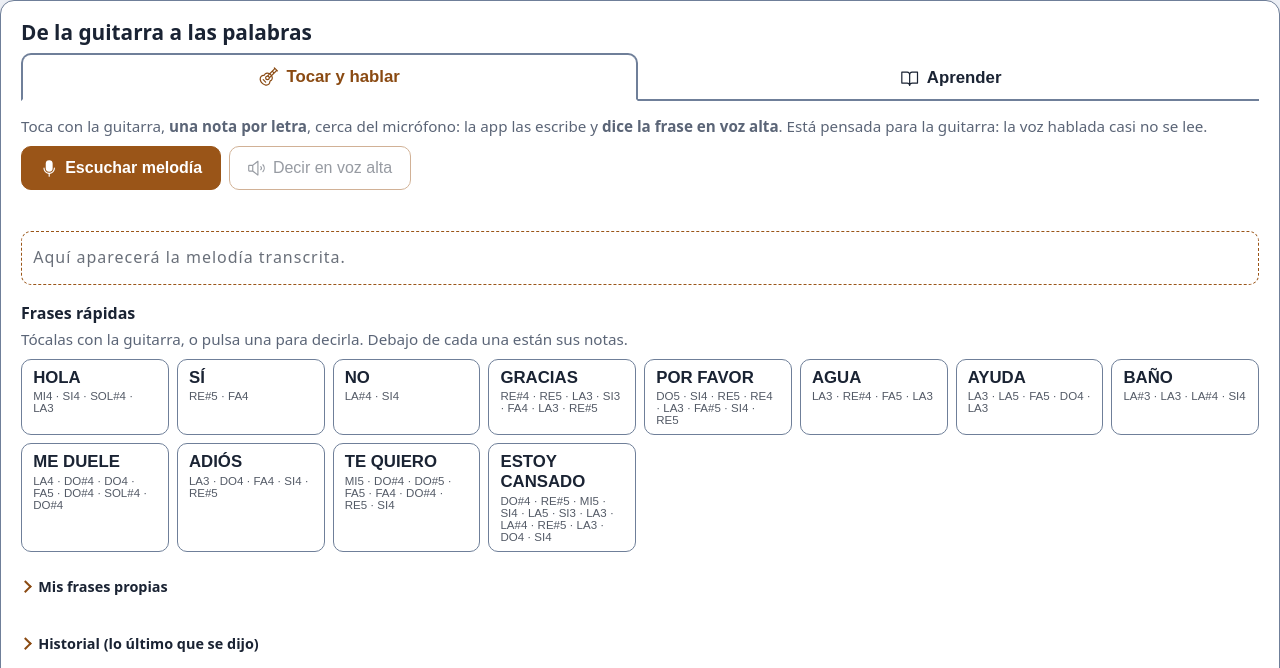
Test case: InstrumentoPanel (escucha simulada) › muestra el aviso de una sola cuerda cuando el motor detecta confusión
The image size is (1280, 668).
Click the button "Escuchar melodía".
click(121, 168)  # box top-left (21, 146), bottom-right (221, 190)
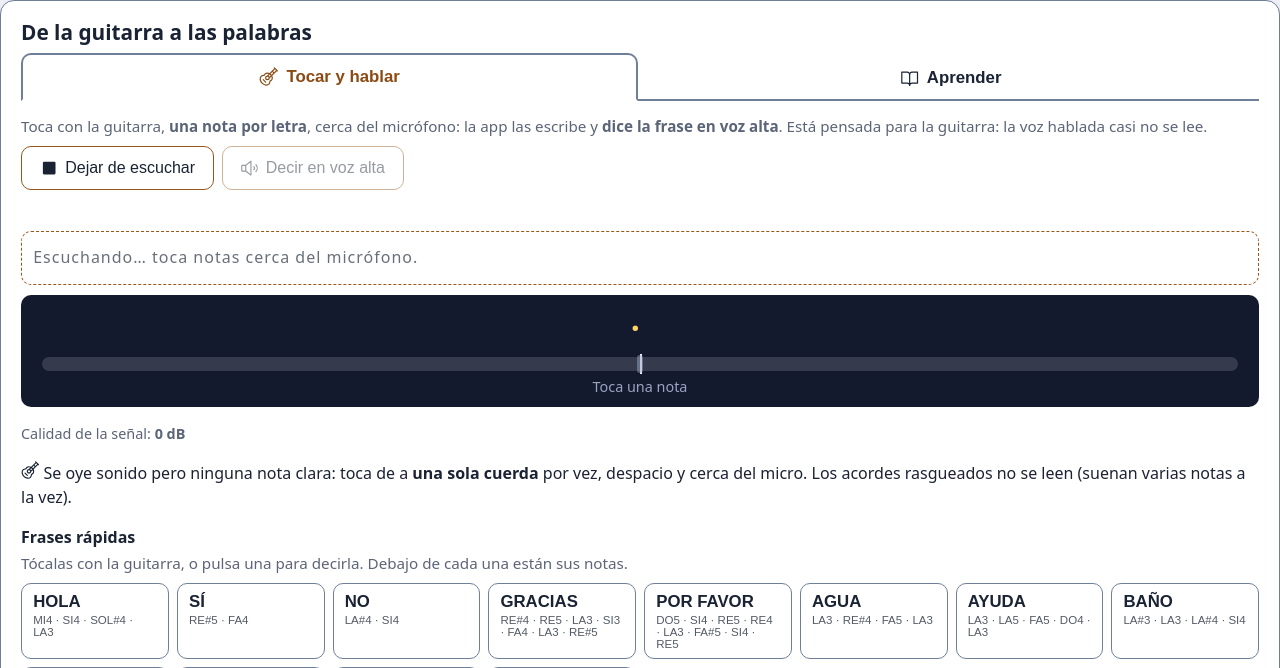
Result: the text "una sola cuerda" is shown at top-left (412, 462), bottom-right (539, 484)
